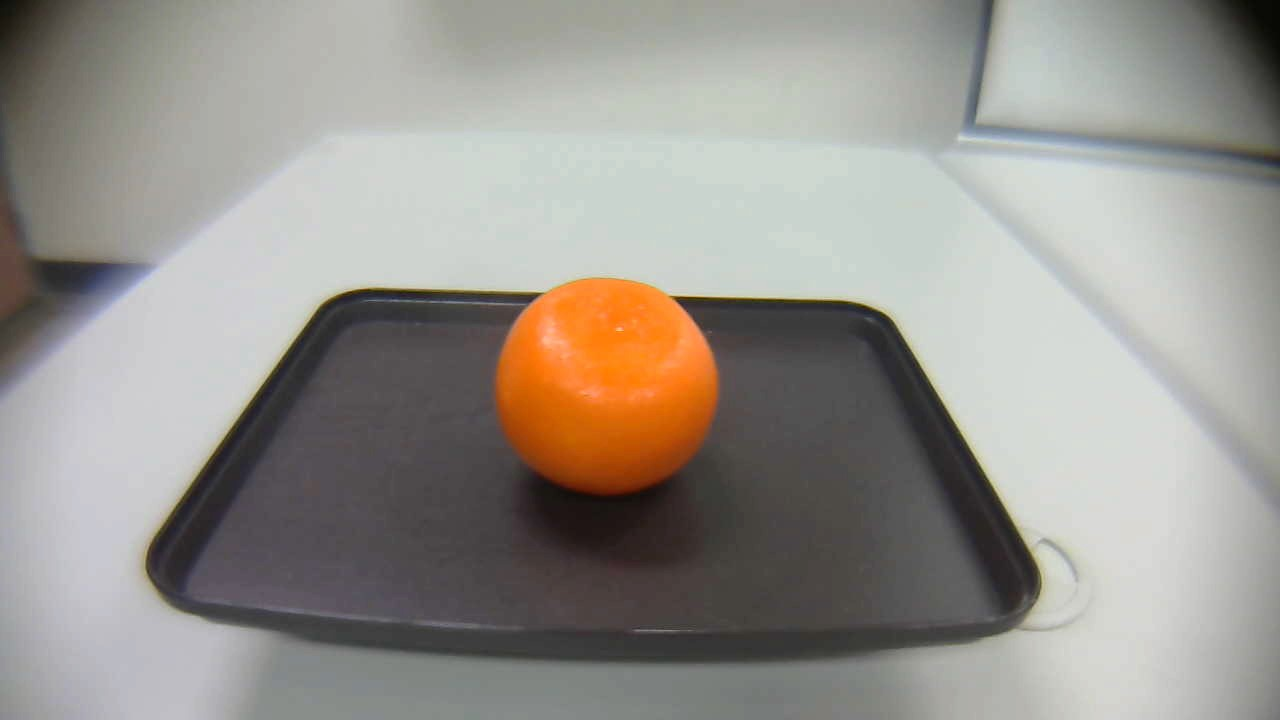orange: (493, 277, 723, 498)
